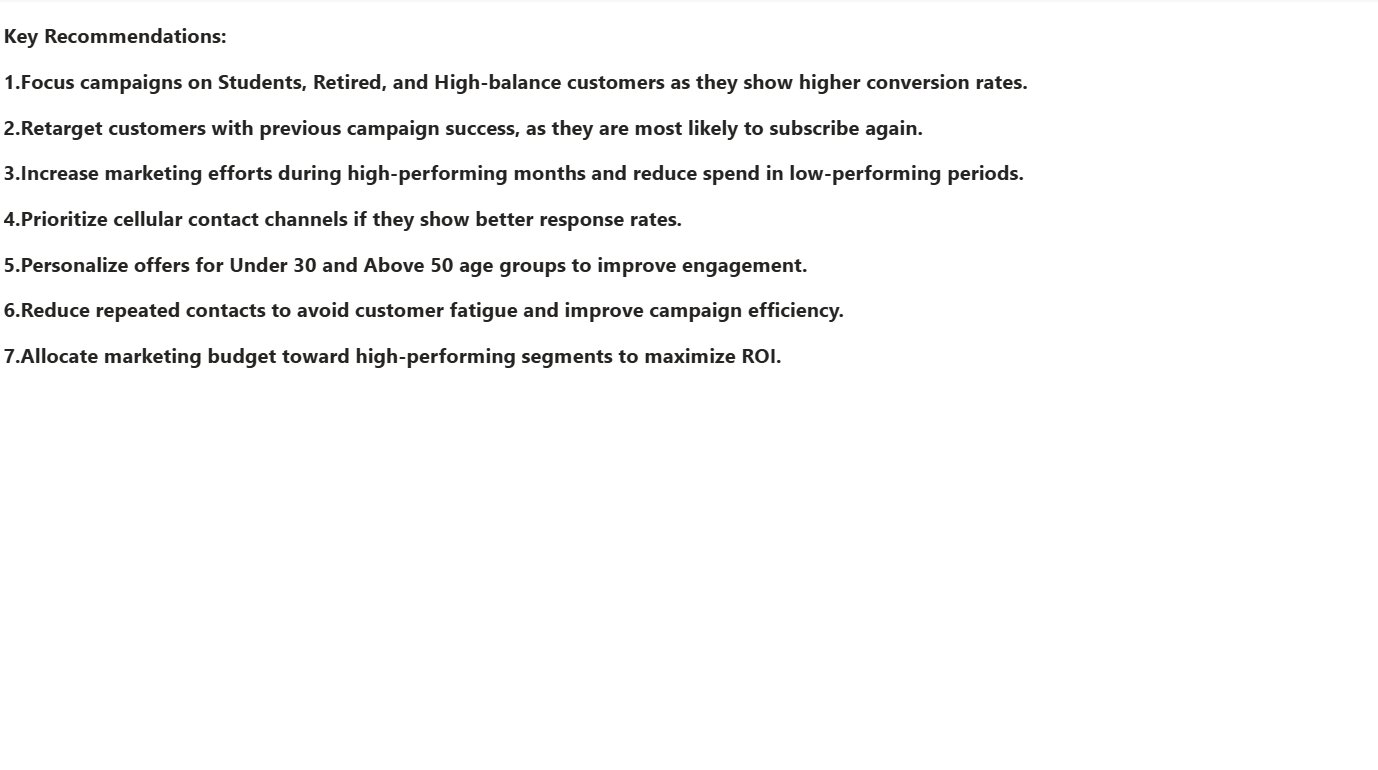

The dashboard page shown, as its layout file describes it:
{"tool":"powerbi","page":{"name":"Recommendations","canvas":[1280,720],"ordinal":2},"visuals":[{"type":"textbox","box":[0,0,1279.9,719.5],"z":0}]}

Visuals, with their boxes in screenshot pixels (x1, y1, x2, y2), scaled from the page's 1280x720 canvas onto the 1378x770 screenshot:
textbox: (left=0, top=0, right=1377, bottom=769)
